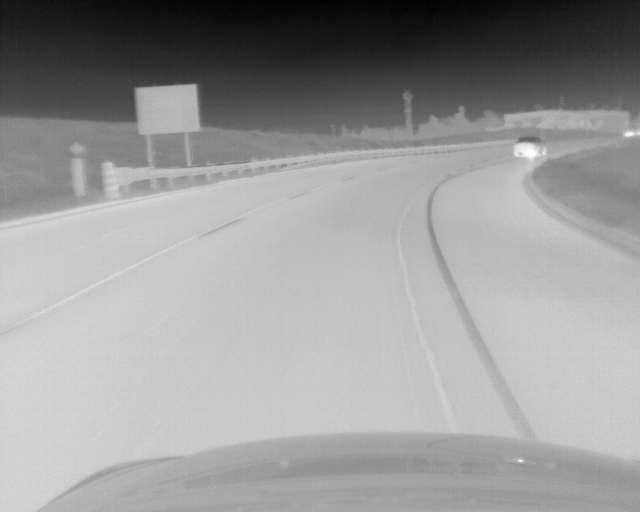car: (514, 135, 548, 159)
